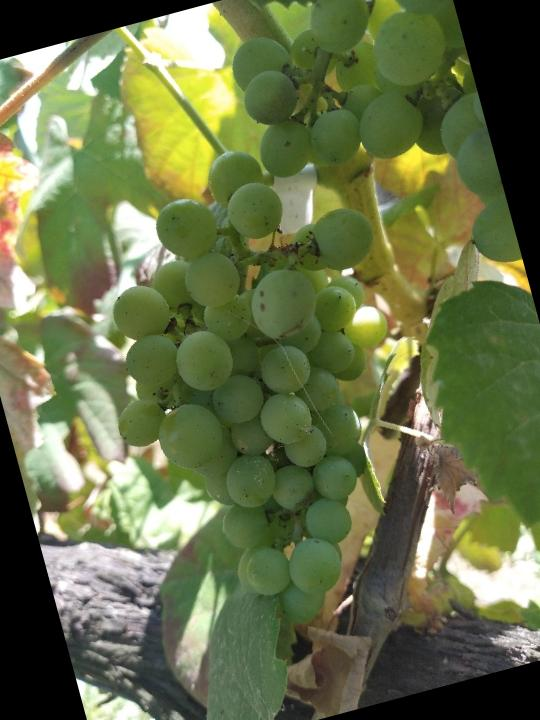grape: (57, 122, 467, 660)
